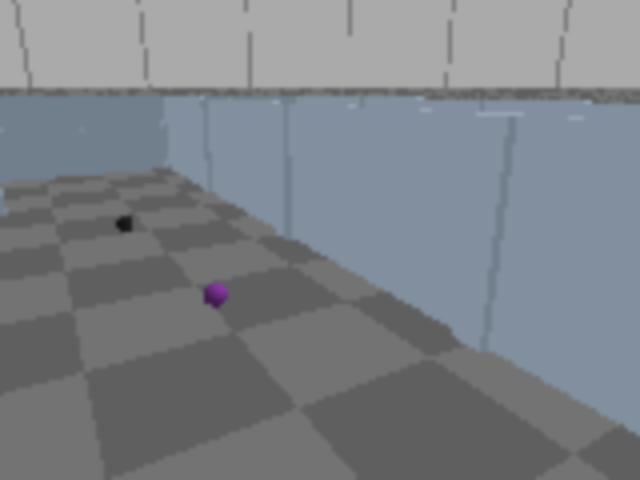puck: (197, 277, 233, 313), (117, 217, 133, 233)
